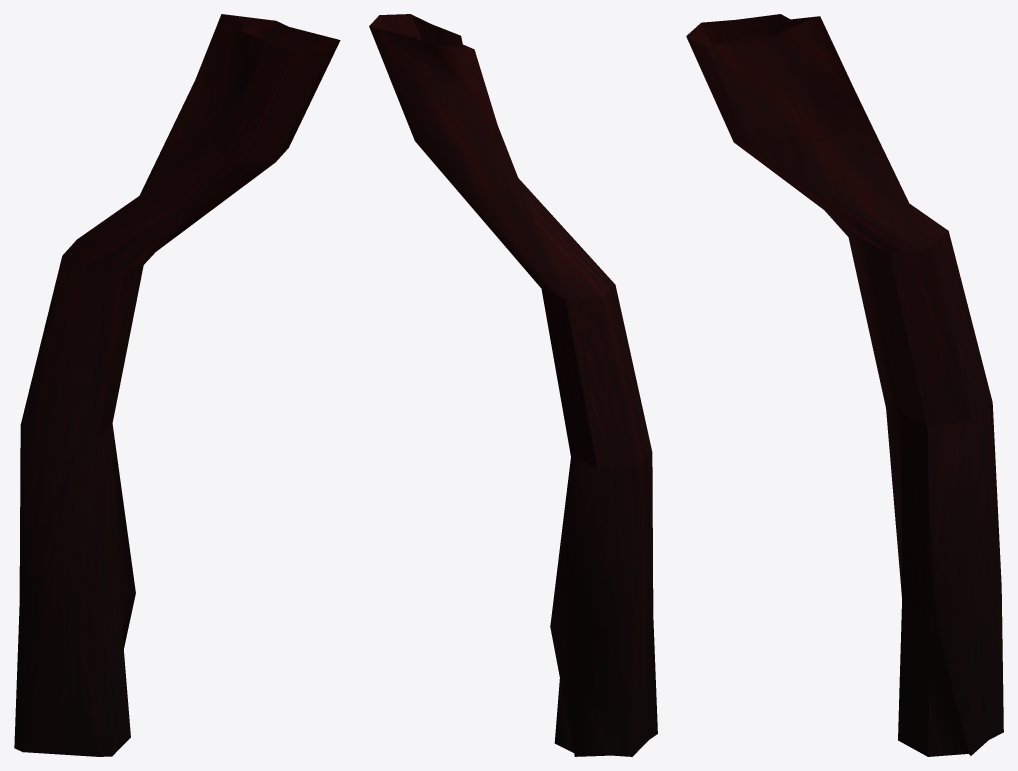
The model's file is jungle_palm_a3_mid.glb.
The picture shows the model from 3 angles, left to right: view 1: azimuth 30°, elevation 25°; view 2: azimuth 210°, elevation 25°; view 3: azimuth 270°, elevation 25°; orthographic projection. The views are drawn at different scales.
Parts seen in each view (by area): view 1: jungle_palm_a3_mid; view 2: jungle_palm_a3_mid; view 3: jungle_palm_a3_mid.
Part boxes in pixels (x1=…): jungle_palm_a3_mid: x1=14, y1=14, x2=340, y2=756; jungle_palm_a3_mid: x1=369, y1=14, x2=657, y2=756; jungle_palm_a3_mid: x1=686, y1=14, x2=1003, y2=756.
Size of the model in its own units: 0.9183 by 3.34 by 1.27.
1 material, 1 textured.
